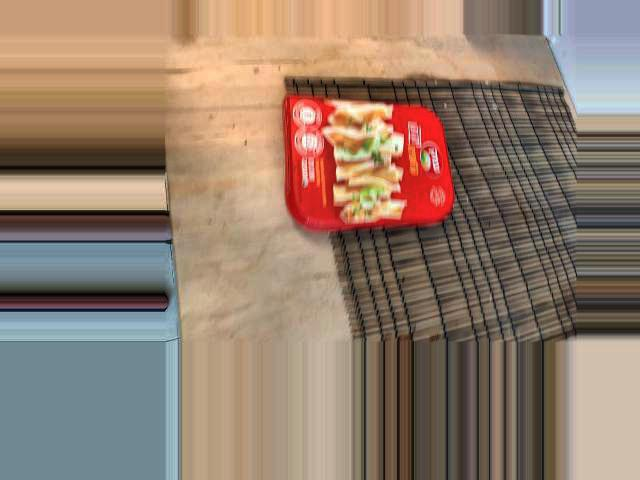cheese: (335, 165, 459, 356)
